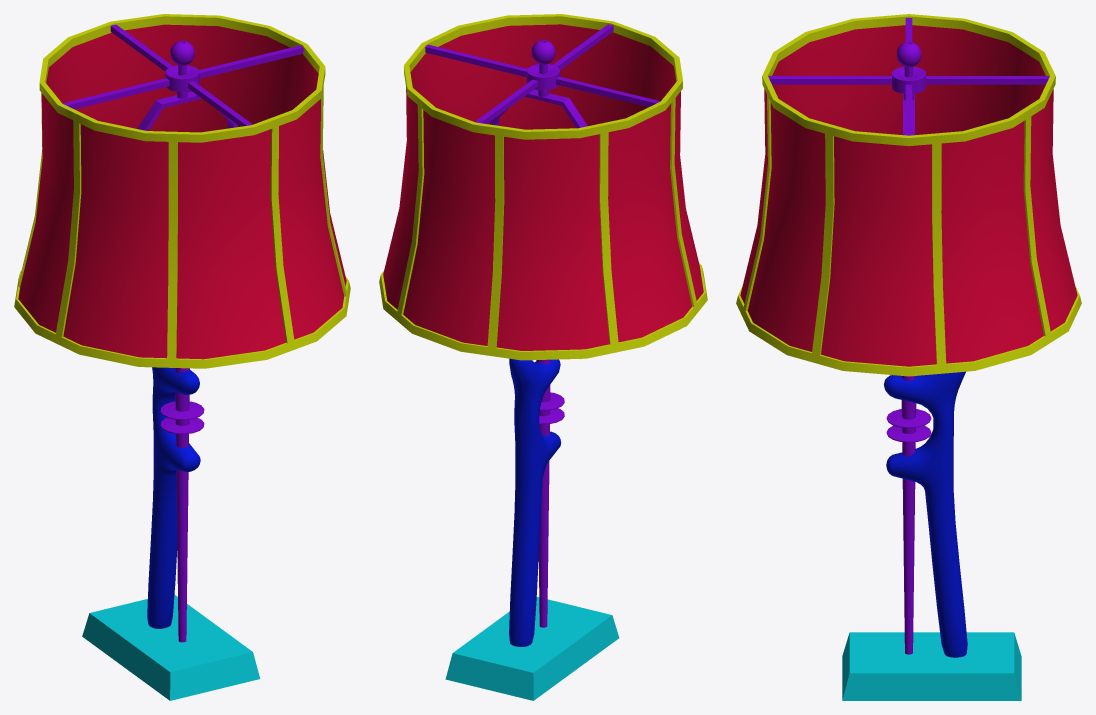
File: Abstract_Deco_Lamp.fbx
3 renders of one model, left to right at view 1: azimuth 30°, elevation 25°; view 2: azimuth 150°, elevation 25°; view 3: azimuth 270°, elevation 25°, orthographic. The views are drawn at different scales.
Visible parts, largest first — view 1: #LMP0005_Deco_Bone_Gold_Abstract; view 2: #LMP0005_Deco_Bone_Gold_Abstract; view 3: #LMP0005_Deco_Bone_Gold_Abstract.
Boxes of the visible parts, left/top/right/bottom form: #LMP0005_Deco_Bone_Gold_Abstract: left=14, top=14, right=350, bottom=700; #LMP0005_Deco_Bone_Gold_Abstract: left=379, top=14, right=707, bottom=700; #LMP0005_Deco_Bone_Gold_Abstract: left=736, top=14, right=1081, bottom=700.
Bounding box in the file's own units: 0.326 × 0.6604 × 0.326.
